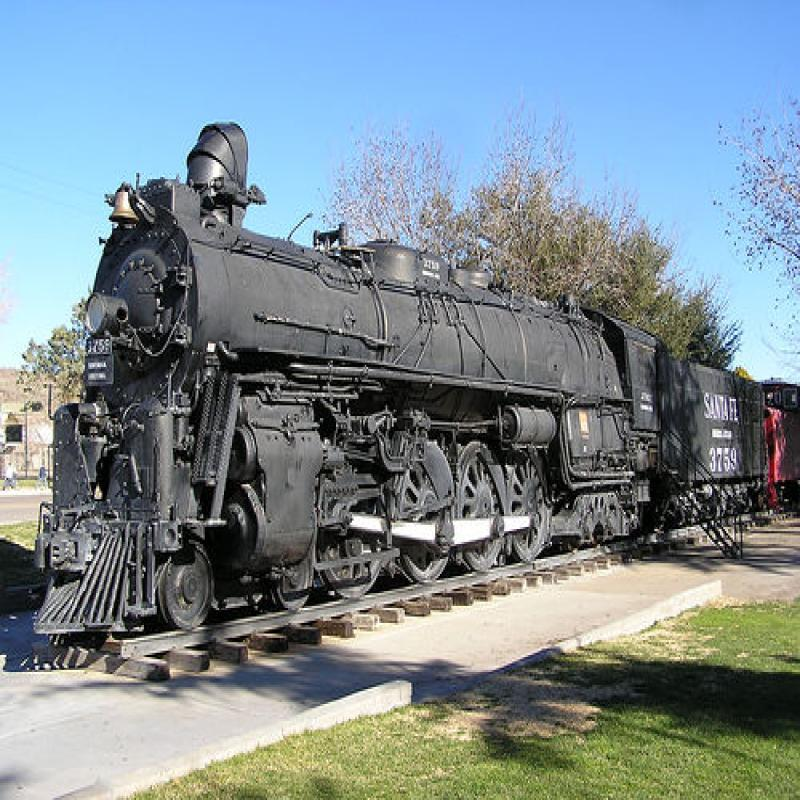train: (27, 121, 800, 635)
